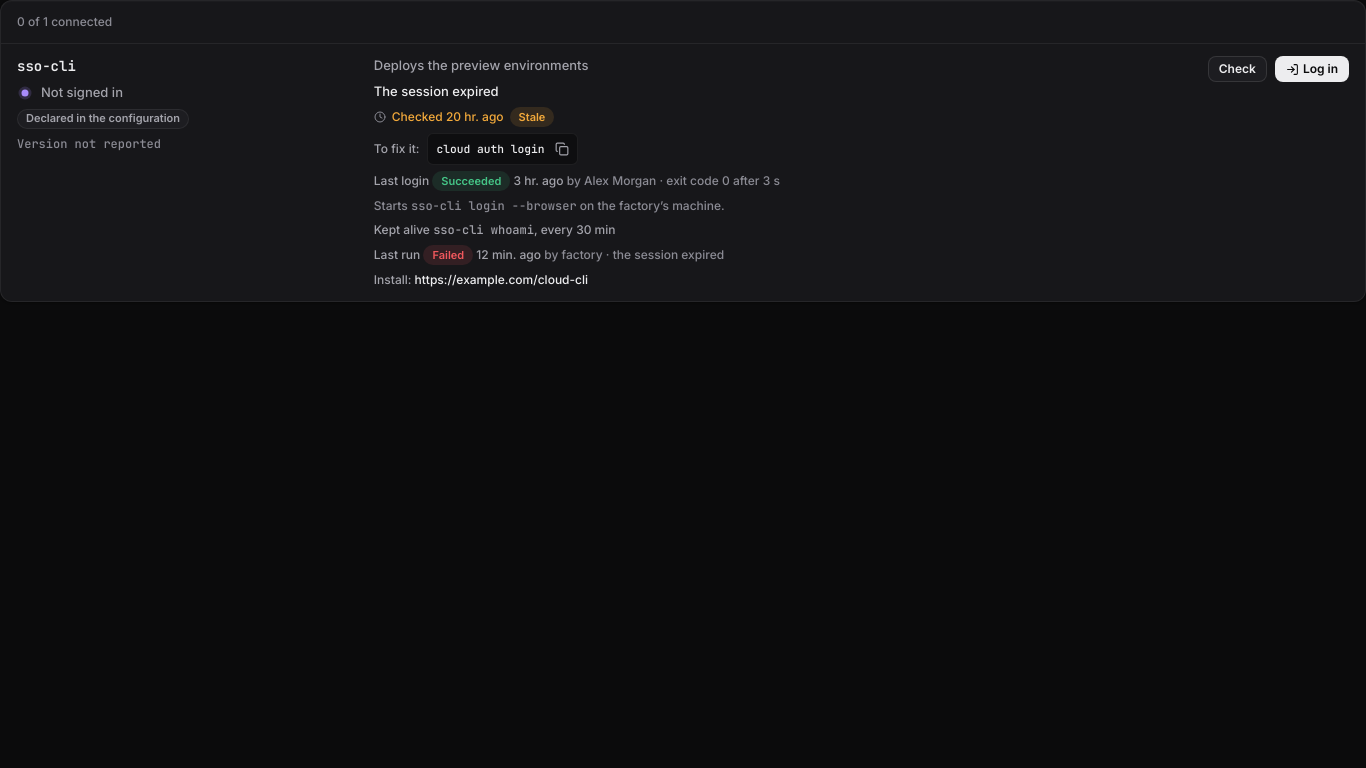
it: ToolList › login › shows what the factory says it did, and its refusal when the tool declares no login
Click the button with aria-label "Log in to sso-cli" at (1312, 69), box [1275, 56, 1349, 82]
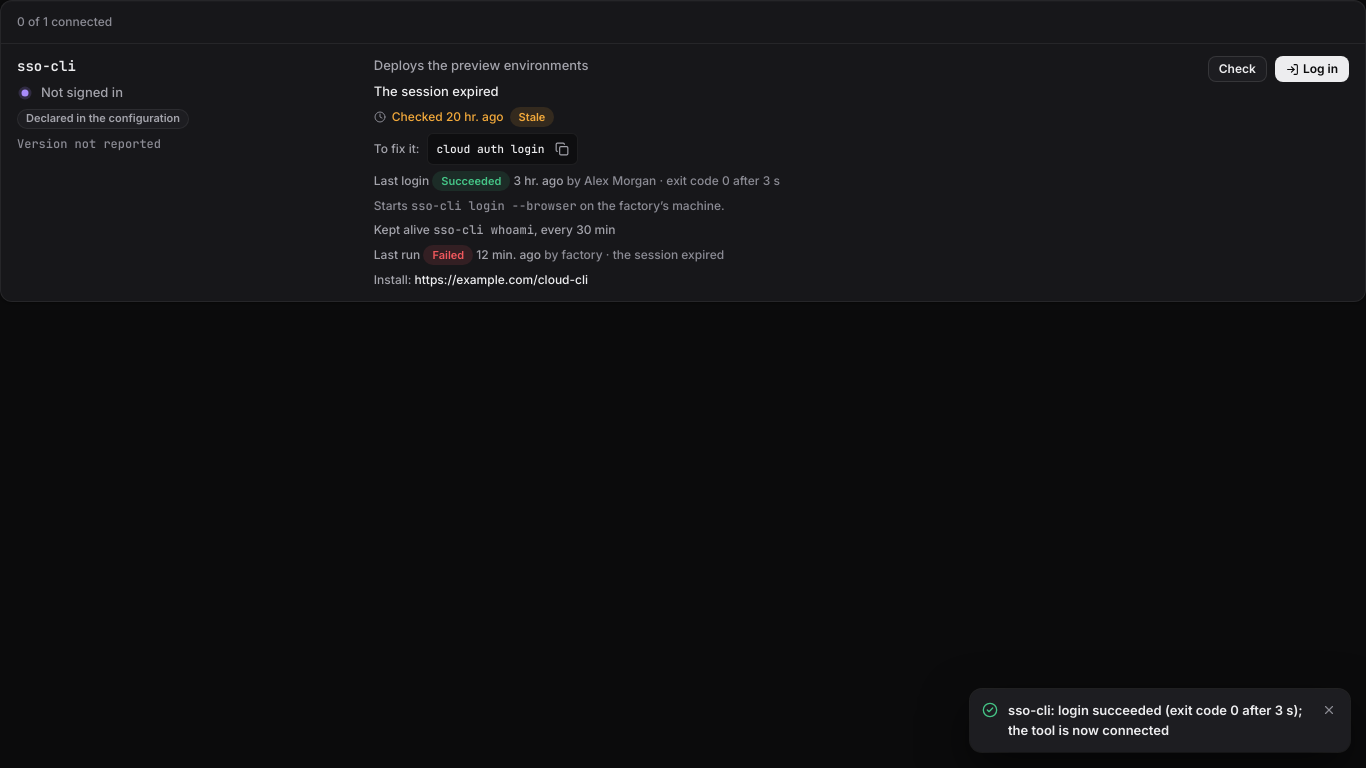
Expected: the text "sso-cli: login succeeded (exit code 0 after 3 s); the tool is now connected" is shown, [1008, 701, 1310, 740]
Click the button with aria-label "Log in to sso-cli" at (1312, 69), box [1275, 56, 1349, 82]
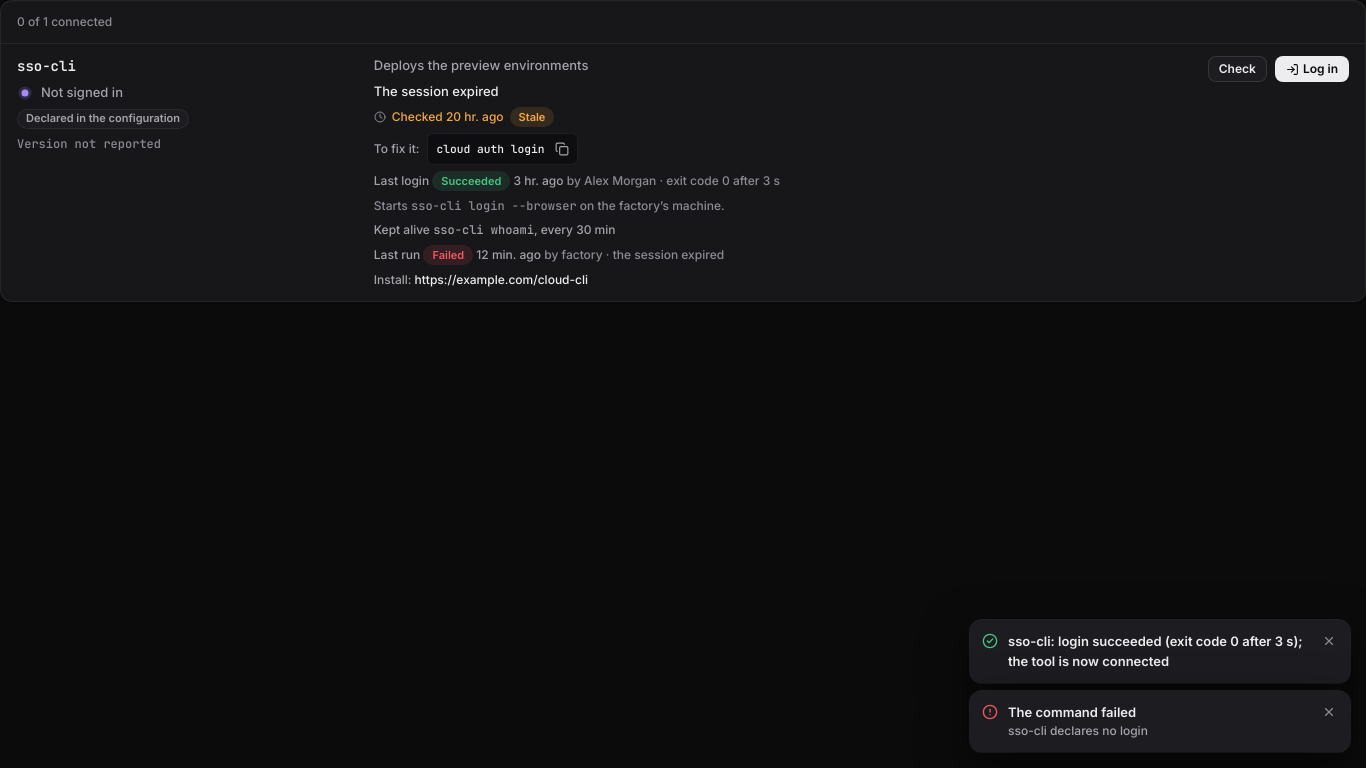
Expected: the text "sso-cli declares no login" is shown, [1008, 723, 1148, 738]
